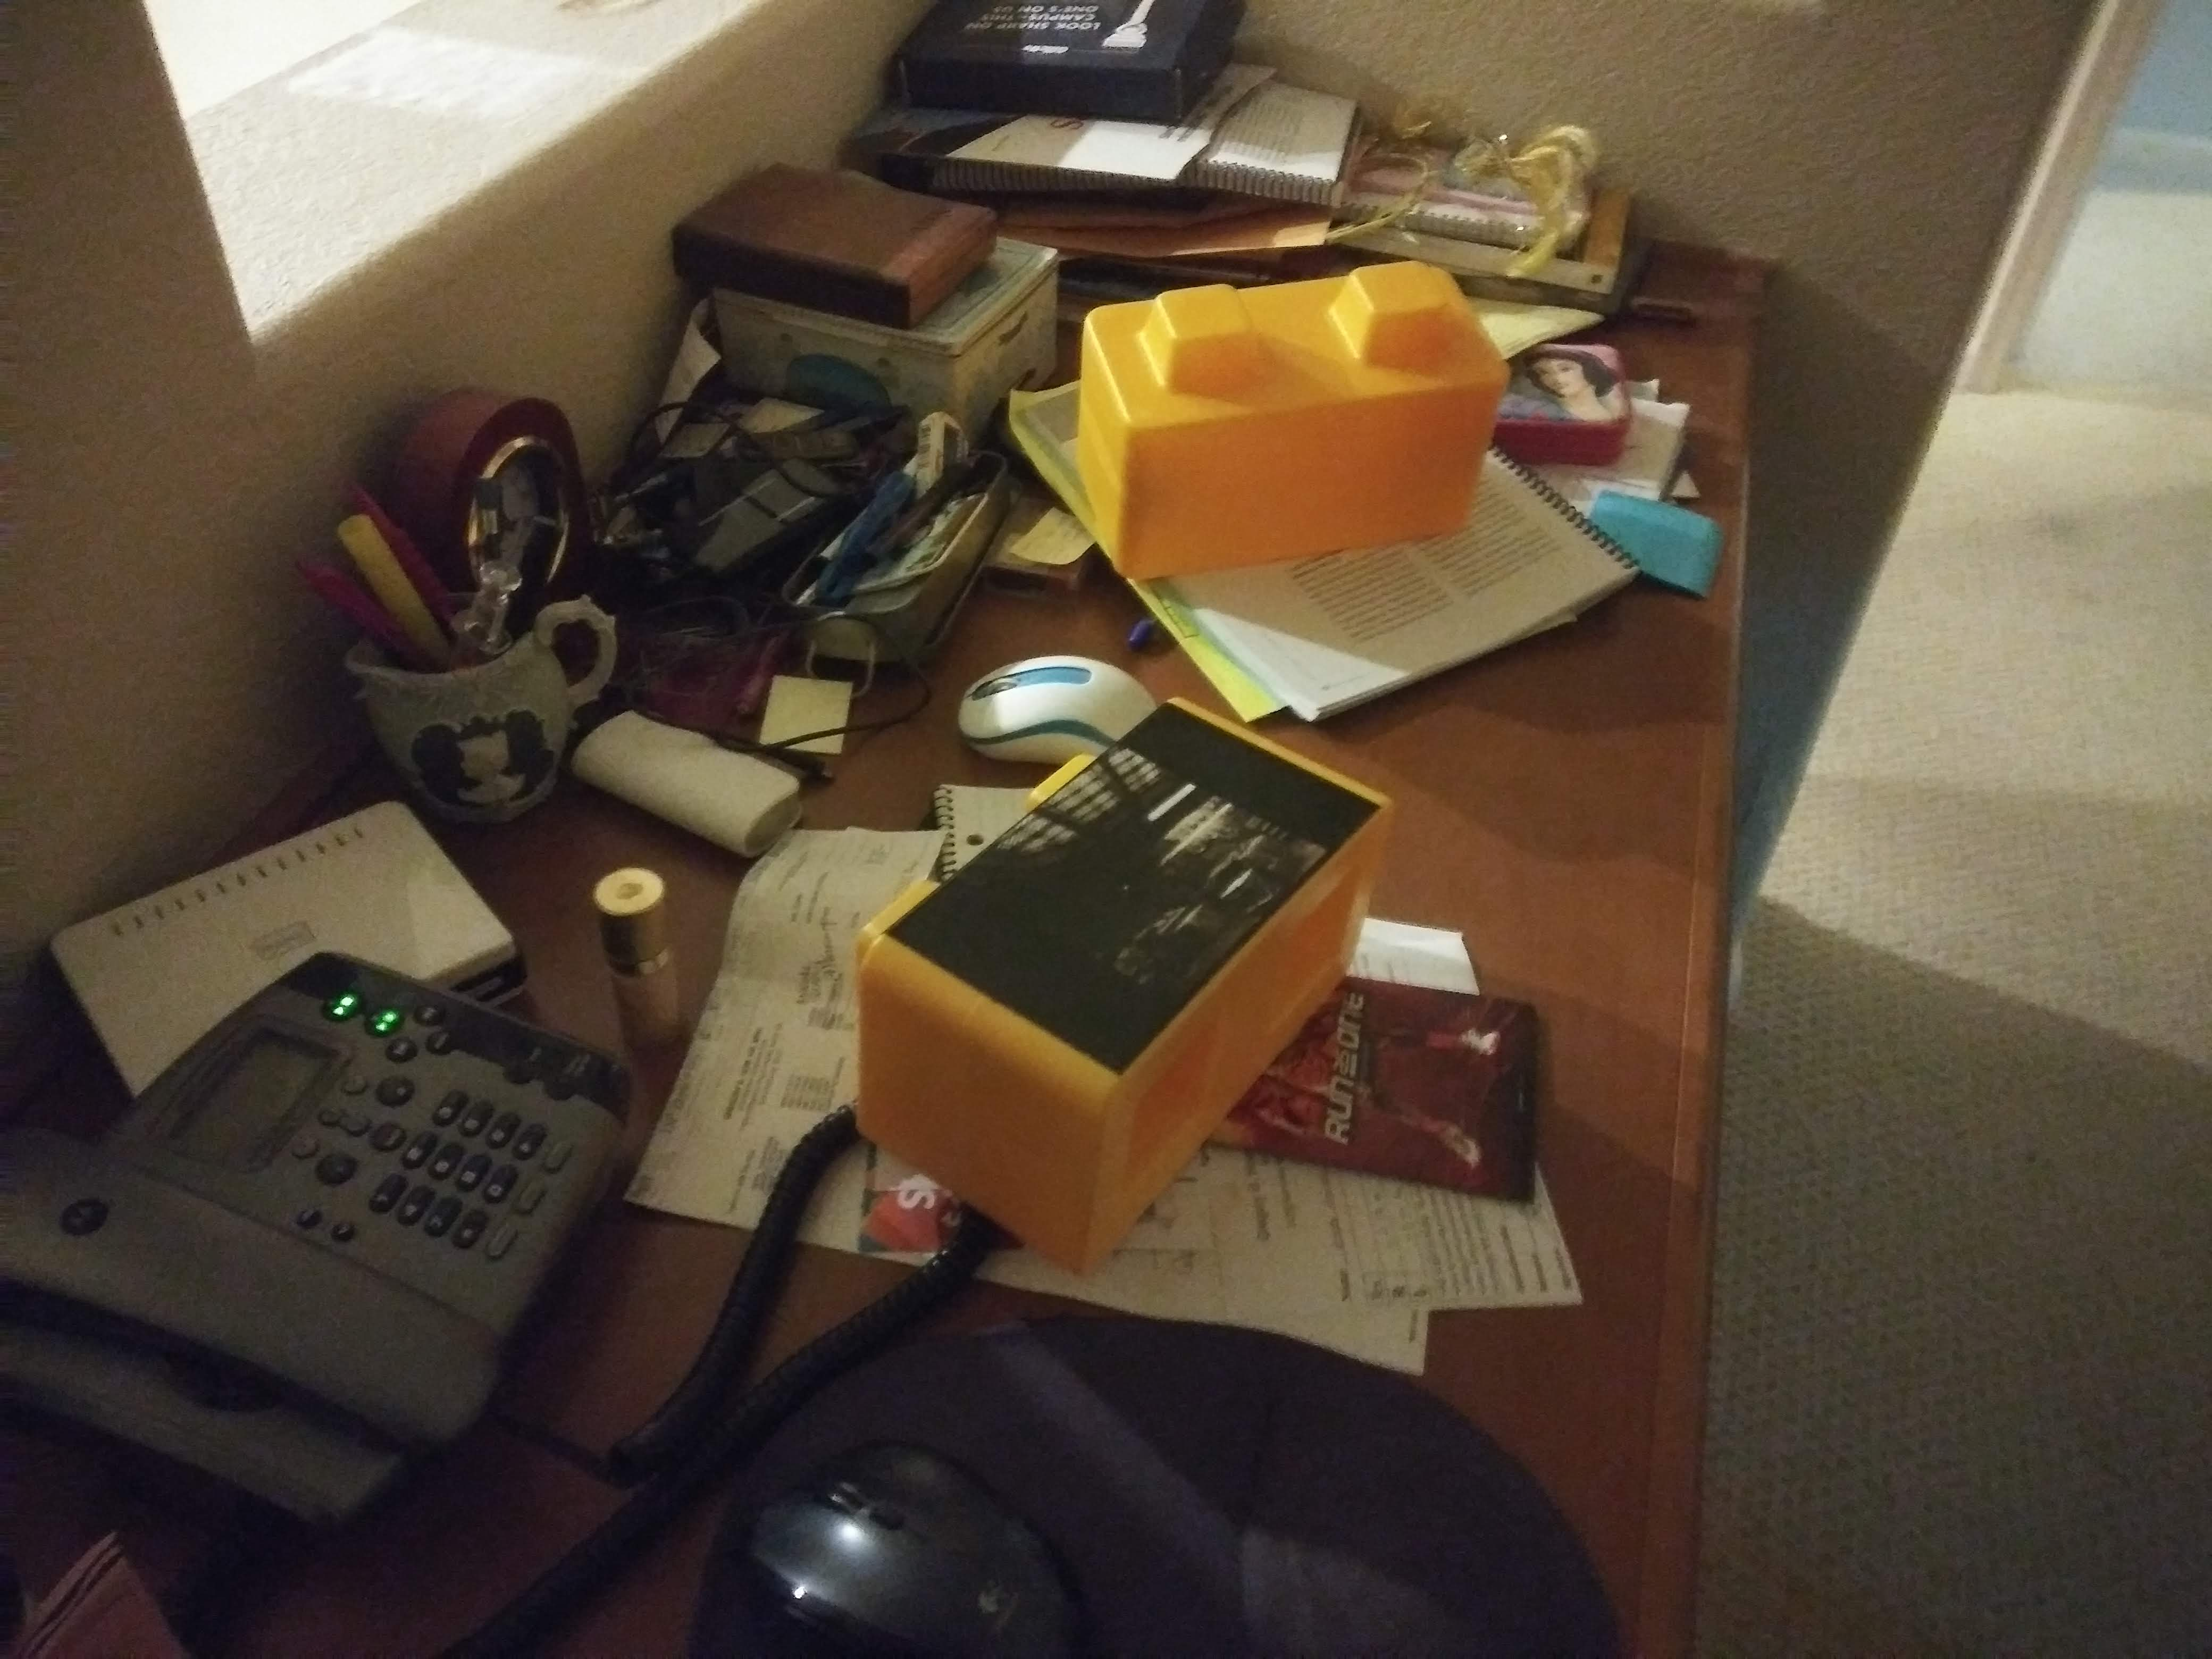skystone: (883, 737, 1348, 1114)
stone: (1085, 289, 1486, 558)
